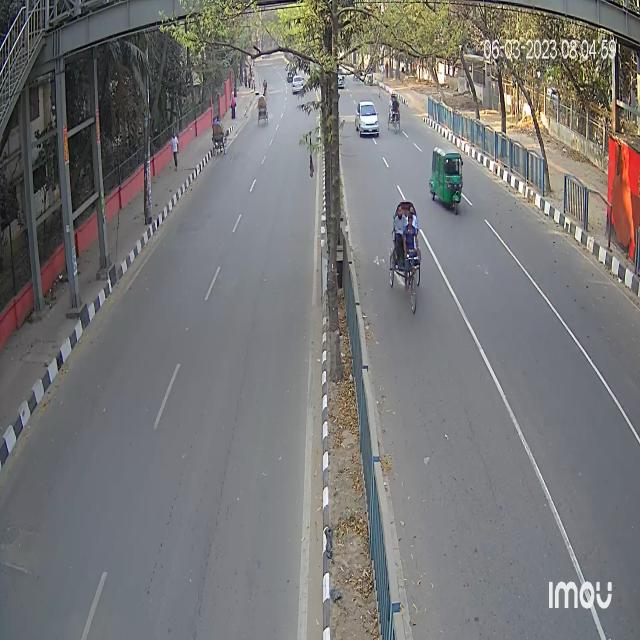cng: (429, 146, 468, 214)
rikshaw: (383, 196, 428, 317), (209, 116, 229, 159), (386, 92, 401, 134), (255, 93, 270, 129)
